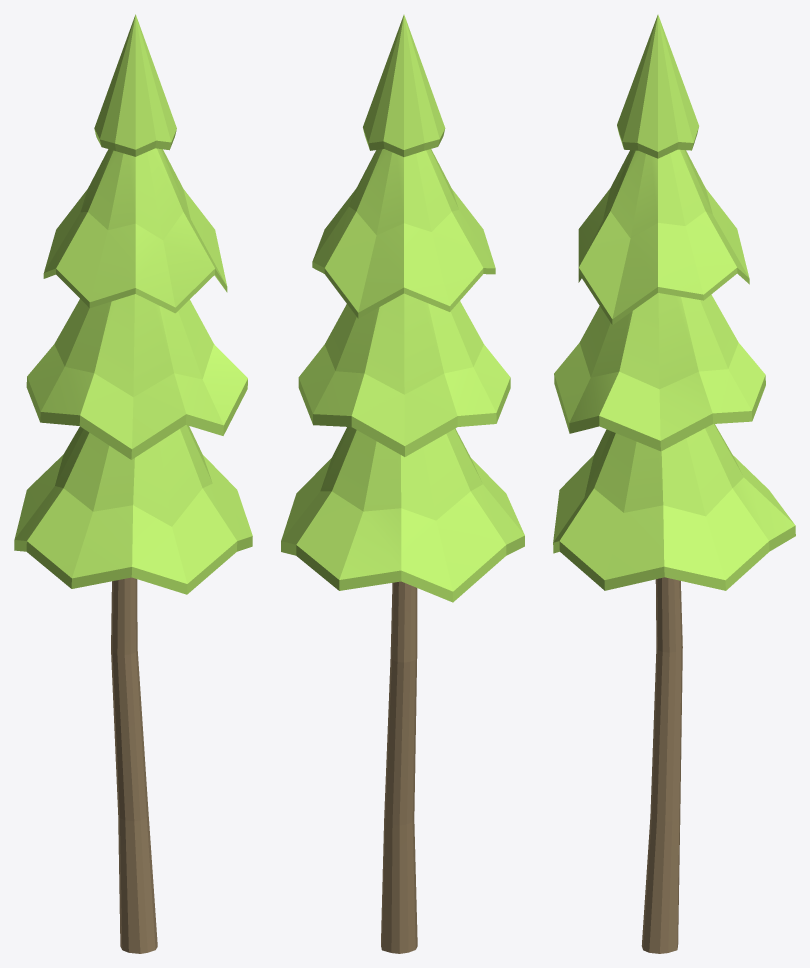
File: more tree3.fbx
3 views of the same model, side by side, from view 1: azimuth 30°, elevation 25°; view 2: azimuth 150°, elevation 25°; view 3: azimuth 270°, elevation 25° (orthographic).
Visible parts, largest first — view 1: tree_002_light_green; view 2: tree_002_light_green; view 3: tree_002_light_green.
Part boxes in pixels (box(x1,y1,x2,y2)): tree_002_light_green: box(14, 14, 252, 953); tree_002_light_green: box(281, 14, 524, 953); tree_002_light_green: box(553, 14, 795, 953).
Size of the model in its own units: 1.89 by 8.02 by 1.9.
